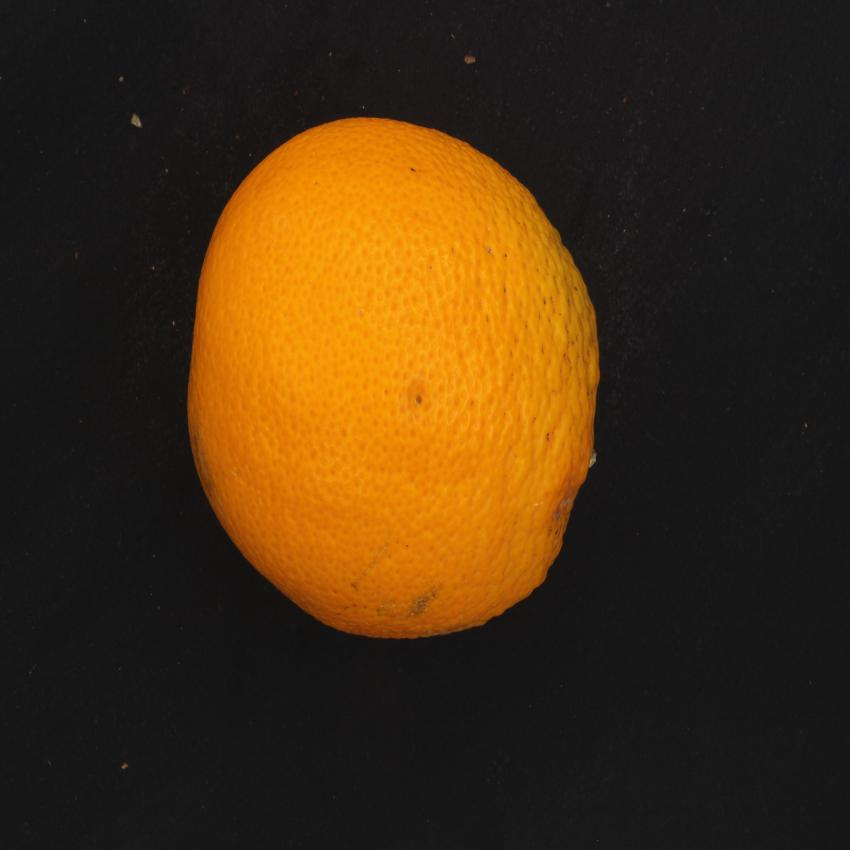Buen estado: (174, 111, 616, 654)
